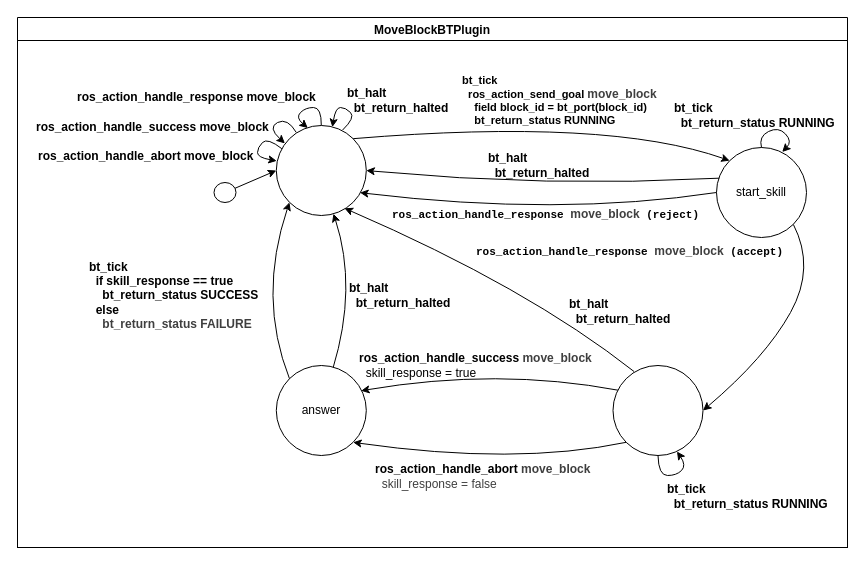
This 865x565 diagram has some shape labels left out. The box of each missing label's shape, as (x1, y1, x2, y2) in pixels:
idle: (275, 124, 366, 216)
running: (612, 364, 703, 456)
